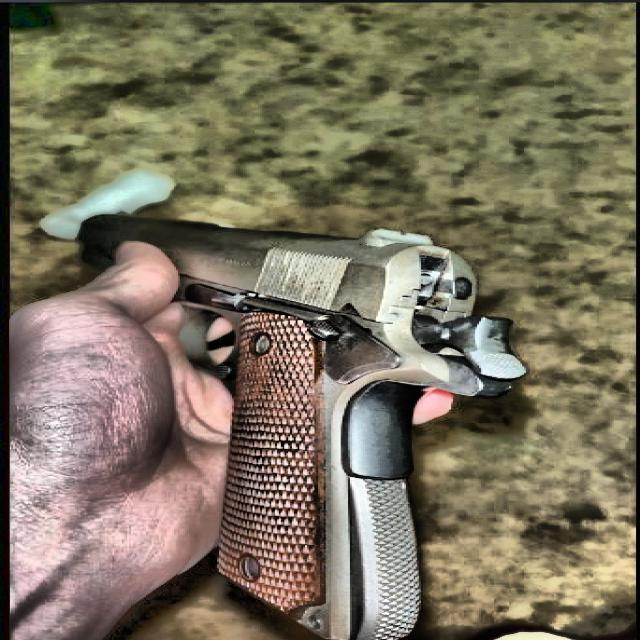Colt m1911: (73, 208, 528, 639)
